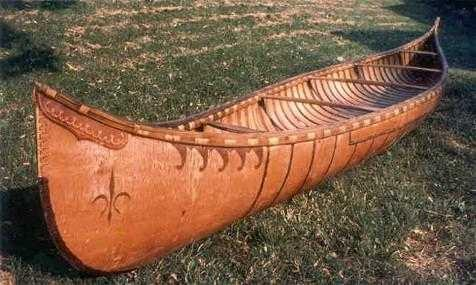kayak: (27, 17, 449, 274)
